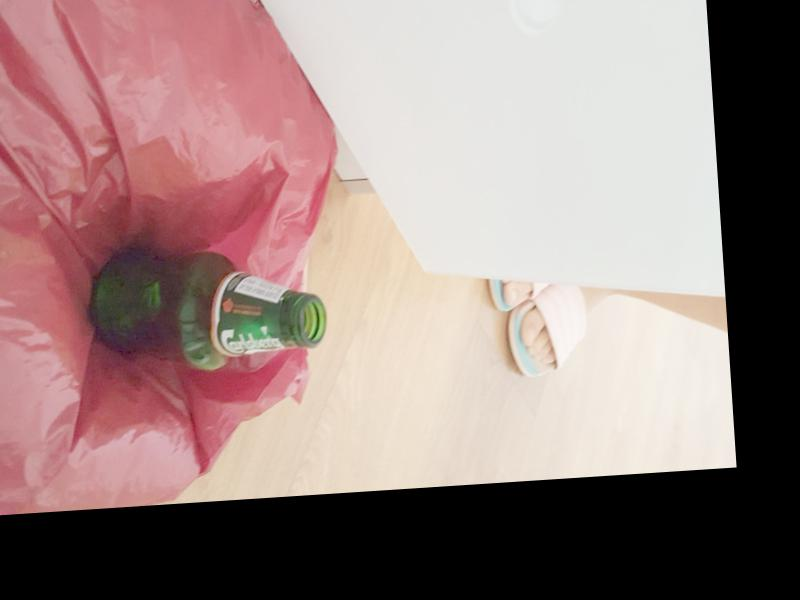Beer: (84, 234, 328, 376)
